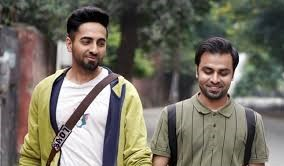Bad: (18, 7, 268, 166)
